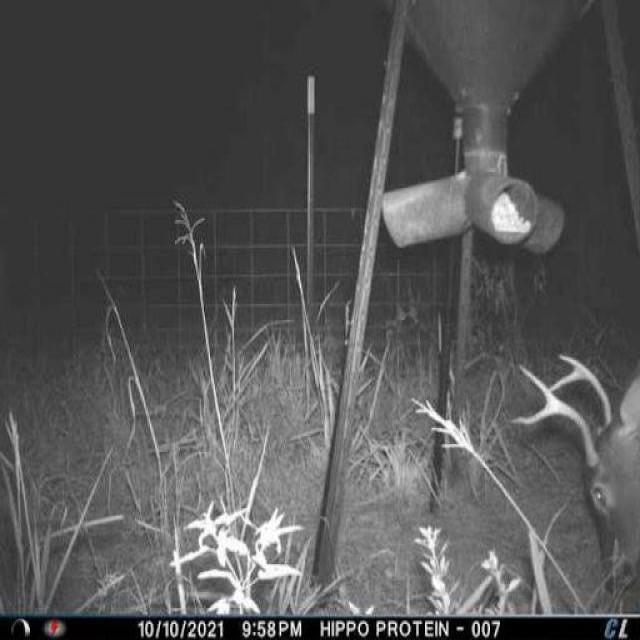deer: (511, 336, 640, 603)
